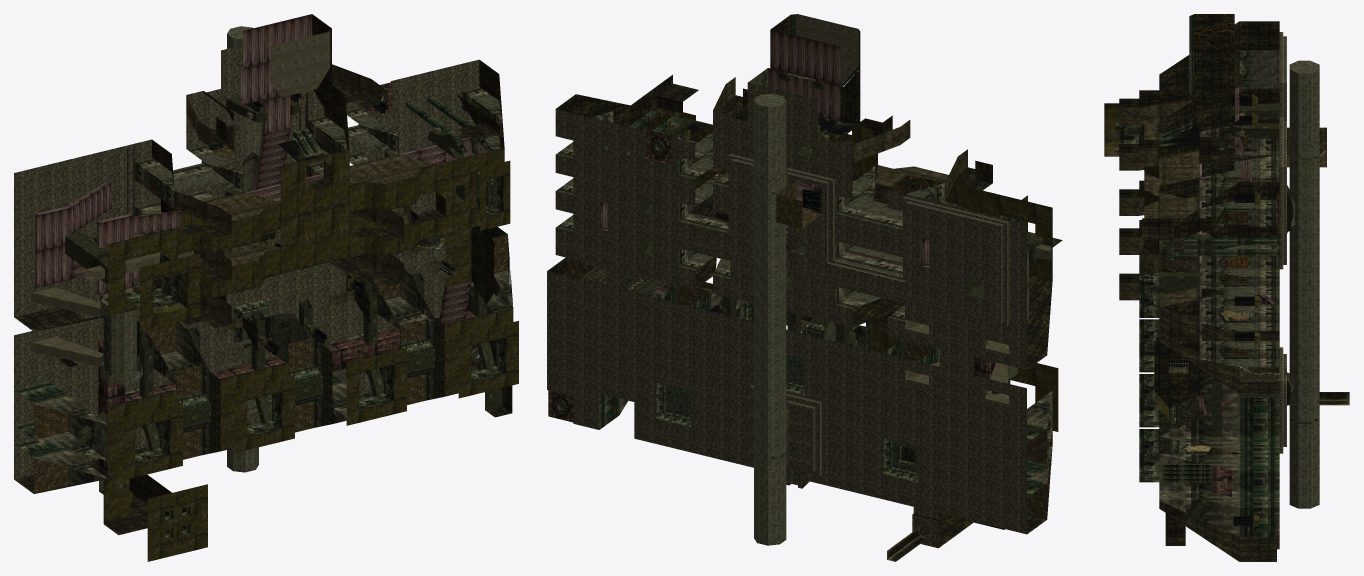
The model's file is DOM-Elder.obj.
The picture shows the model from 3 angles, left to right: view 1: azimuth 30°, elevation 25°; view 2: azimuth 150°, elevation 25°; view 3: azimuth 270°, elevation 25°; orthographic projection.
Bounding box in the file's own units: 67.06 × 63.4 × 29.87.
Materials: 40 (40 with a texture image).
